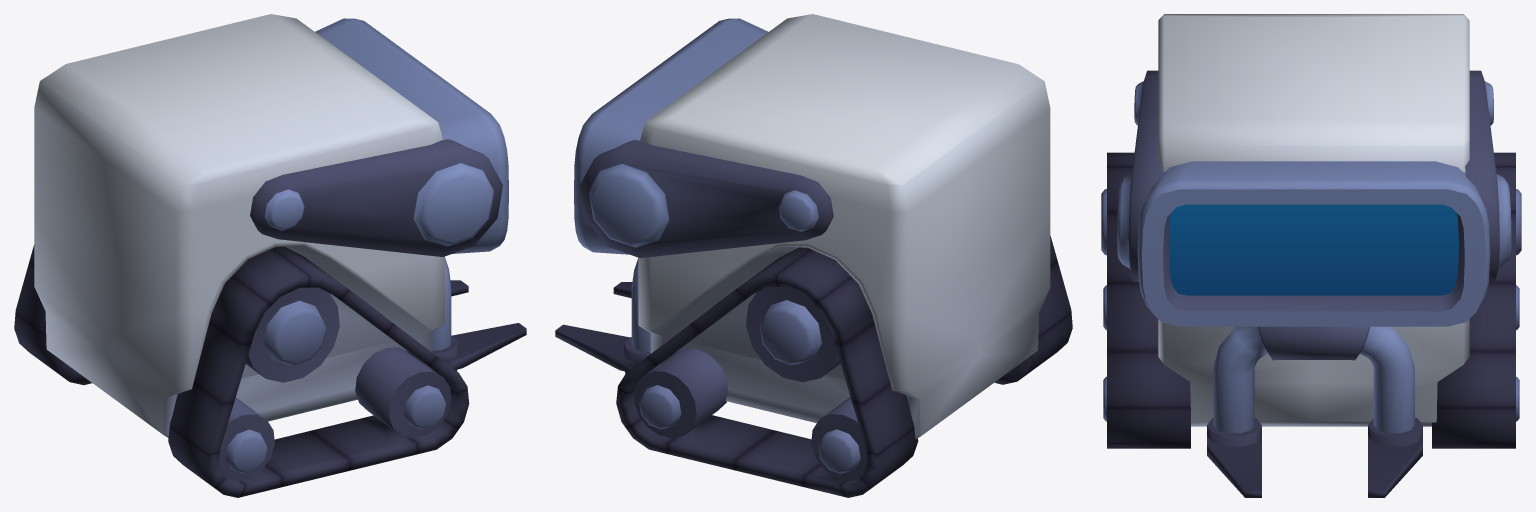
The model's file is robot.fbx.
3 renders of one model, left to right at view 1: azimuth 30°, elevation 25°; view 2: azimuth 150°, elevation 25°; view 3: azimuth 270°, elevation 25°, orthographic. The views are drawn at different scales.
Visible parts, largest first — view 1: body, threads, headset, visor, fork, forklift; view 2: body, threads, headset, visor, fork, forklift; view 3: body, visor, threads, forklift, headset, fork.
Part boxes in pixels (left/top/right/bottom): body: left=34, top=14, right=444, bottom=437; threads: left=14, top=244, right=469, bottom=497; headset: left=250, top=139, right=502, bottom=256; visor: left=315, top=18, right=508, bottom=253; fork: left=432, top=280, right=526, bottom=370; forklift: left=432, top=258, right=451, bottom=350; body: left=638, top=14, right=1050, bottom=439; threads: left=616, top=235, right=1072, bottom=497; headset: left=579, top=140, right=833, bottom=258; visor: left=574, top=18, right=768, bottom=254; fork: left=555, top=282, right=650, bottom=373; forklift: left=631, top=258, right=650, bottom=351; body: left=1158, top=14, right=1469, bottom=426; visor: left=1137, top=161, right=1490, bottom=326; threads: left=1101, top=152, right=1521, bottom=448; forklift: left=1213, top=326, right=1414, bottom=433; headset: left=1117, top=70, right=1511, bottom=281; fork: left=1207, top=417, right=1422, bottom=497.
Size of the model in its own units: 286 by 219 by 254.
